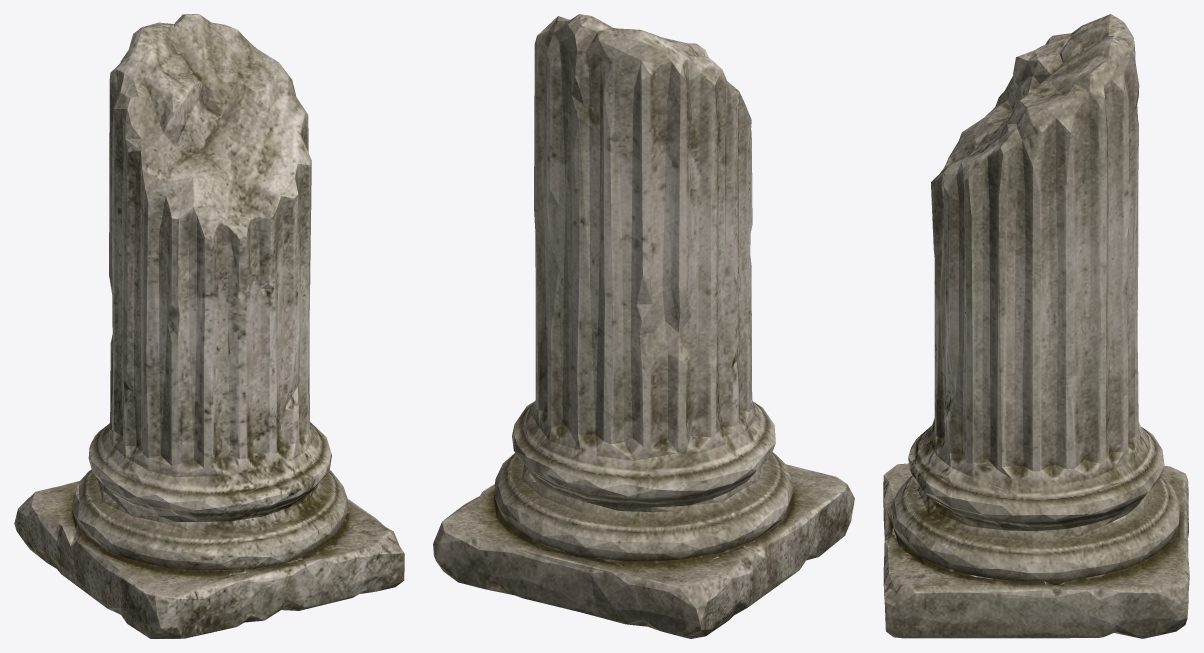
Rendered from broken.glb.
3 views of the same model, side by side, from view 1: azimuth 30°, elevation 25°; view 2: azimuth 150°, elevation 25°; view 3: azimuth 270°, elevation 25° (orthographic). The views are drawn at different scales.
Visible parts, largest first — view 1: lo; view 2: lo; view 3: lo.
Part boxes in pixels (left/top/right/bottom): lo: left=14, top=14, right=404, bottom=638; lo: left=433, top=14, right=854, bottom=638; lo: left=883, top=14, right=1189, bottom=638.
Bounding box in the file's own units: 0.5061 × 1 × 0.5076.
Materials: 1 (1 with a texture image).
